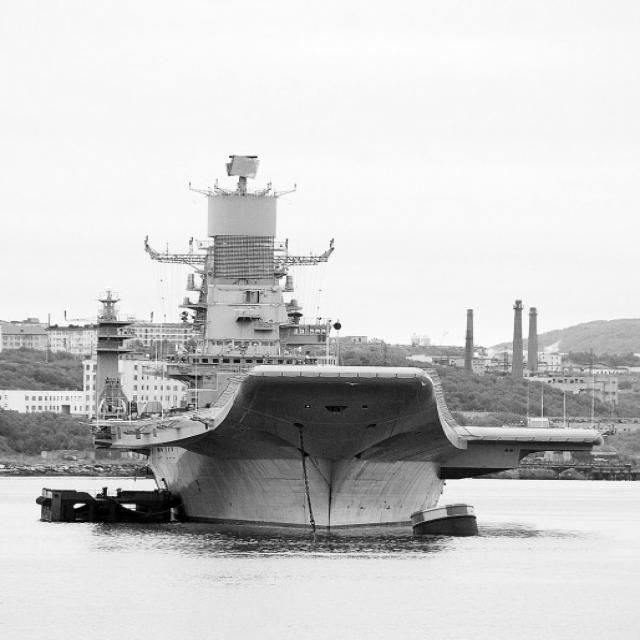Portanaves: (73, 148, 611, 551)
